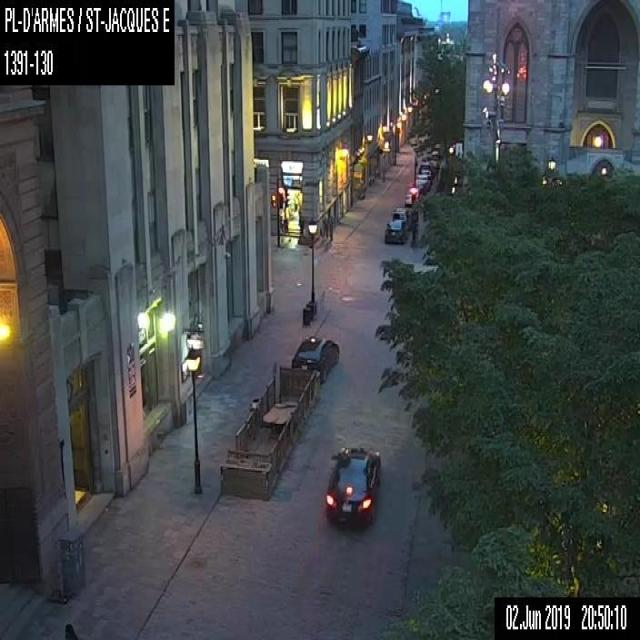pedestrian: (62, 622, 78, 638)
vehicle: (324, 446, 382, 526), (290, 335, 340, 381), (384, 218, 407, 244), (390, 206, 410, 227), (417, 161, 433, 179), (404, 187, 419, 206), (414, 173, 429, 189)
